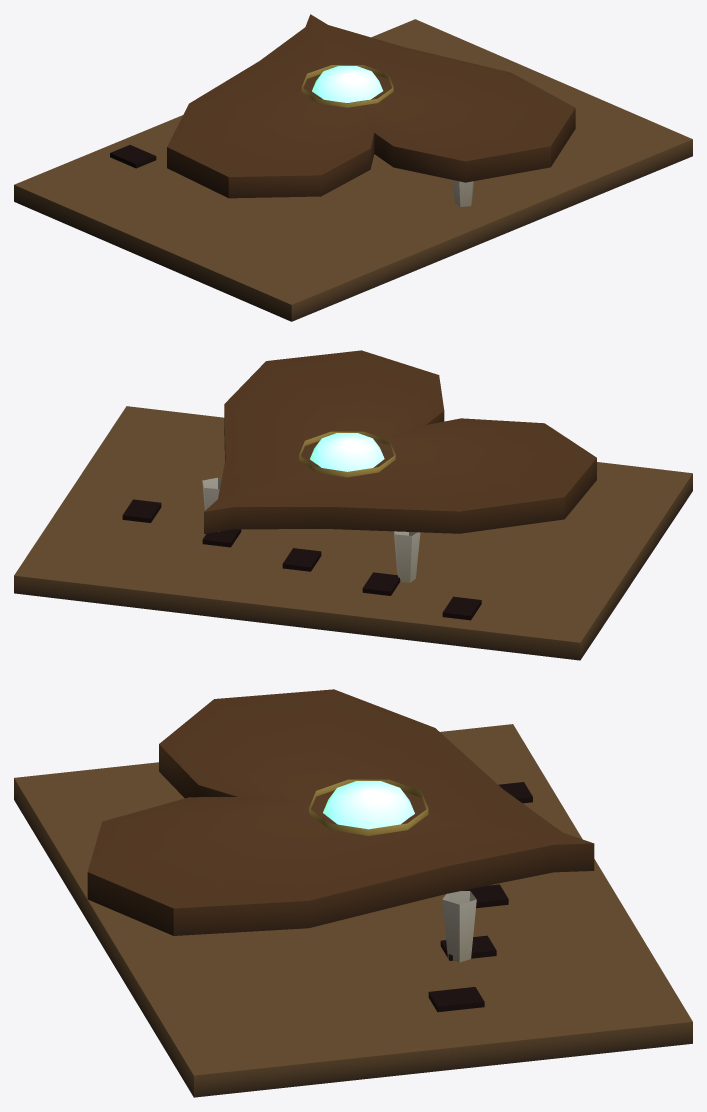
Rendered from relic_planchette.glb.
3 renders of one model, top to bottom at view 1: azimuth 30°, elevation 25°; view 2: azimuth 150°, elevation 25°; view 3: azimuth 270°, elevation 25°, orthographic. The views are drawn at different scales.
Parts seen in each view (by area): view 1: relic_planchette_trim, relic_planchette_glow; view 2: relic_planchette_trim, relic_planchette_glow; view 3: relic_planchette_trim, relic_planchette_glow.
Part boxes in pixels (box(x1,y1,x2,y2)): relic_planchette_trim: box(14, 14, 692, 321); relic_planchette_glow: box(312, 66, 382, 102); relic_planchette_trim: box(14, 350, 692, 660); relic_planchette_glow: box(310, 433, 384, 471); relic_planchette_trim: box(14, 689, 692, 1097); relic_planchette_glow: box(323, 781, 414, 829).
Bounding box in the file's own units: 0.2746 × 0.048 × 0.2241.
